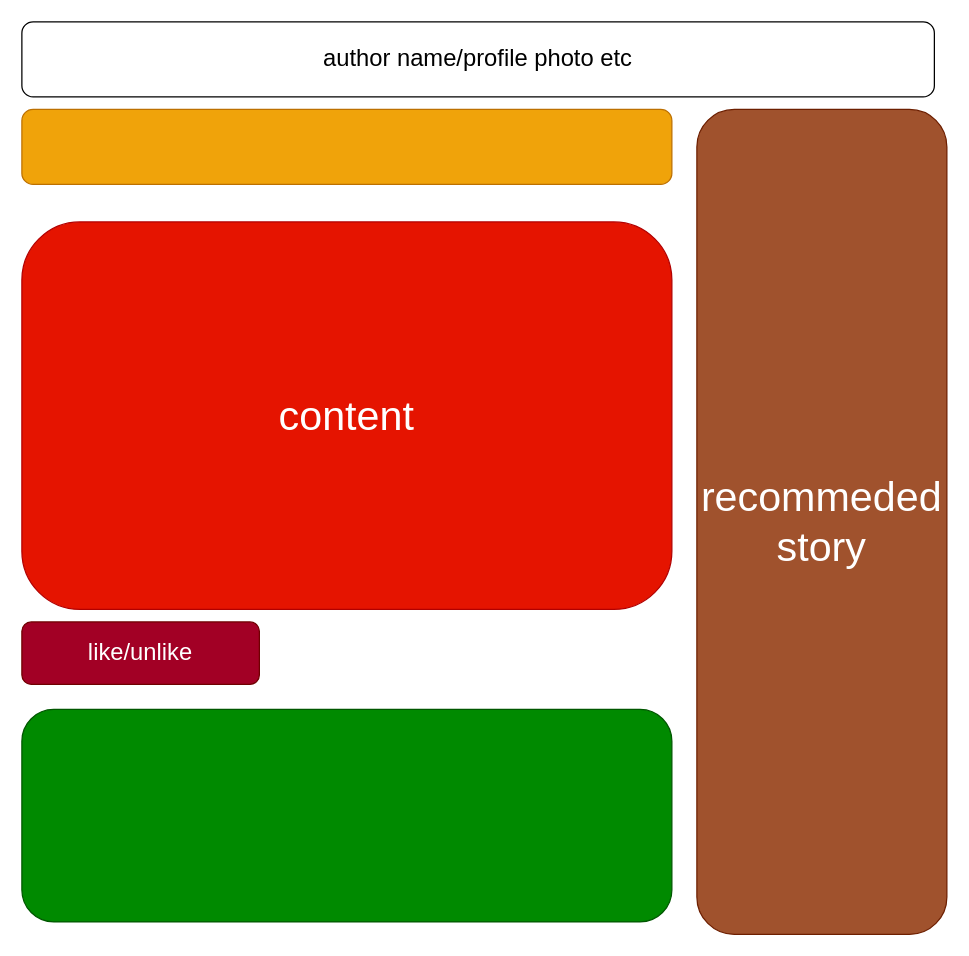
The diagram is 969 pixels wide and 956 high, and some of its shapes have lost their labels. The centre of each missing label's shape, as x and y in pixels:
comment sectiion: the point at 346,815
story heading: the point at 346,146
